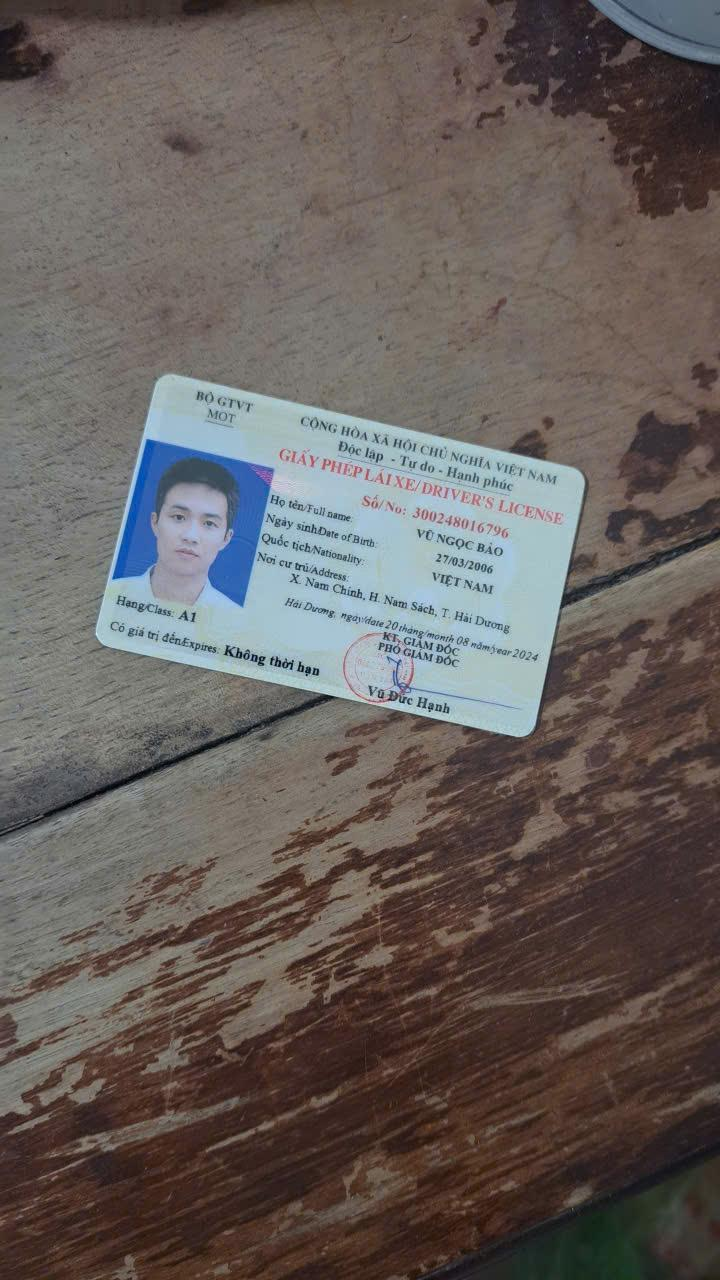gplx: (92, 365, 592, 750)
